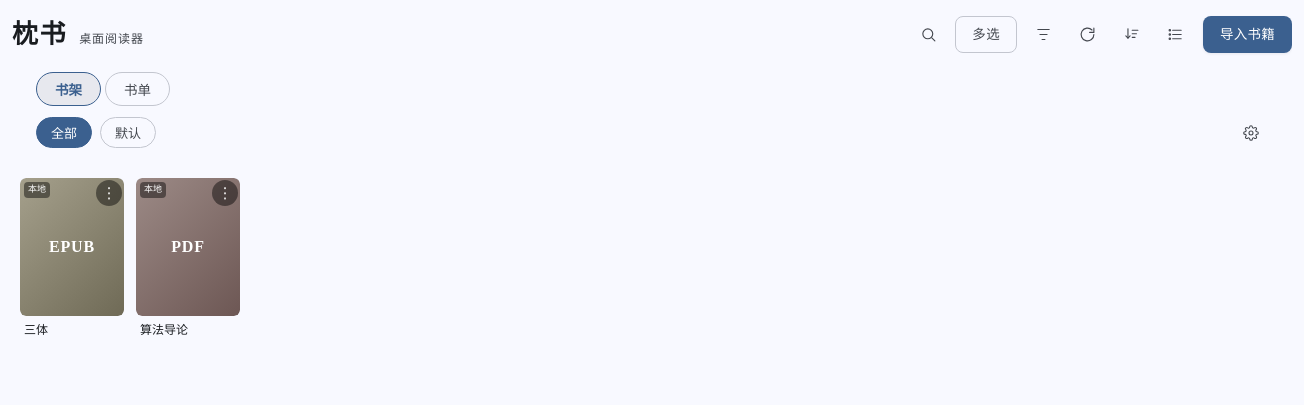
Test: LibraryPage › filters shelf books by title keyword
The width and height of the screenshot is (1304, 405).
Expected: the text "三体" is shown, x1=24 y1=321 x2=48 y2=338
Step 1. Click the button named "过滤书架" → (1044, 35), box x1=1027 y1=18 x2=1061 y2=52
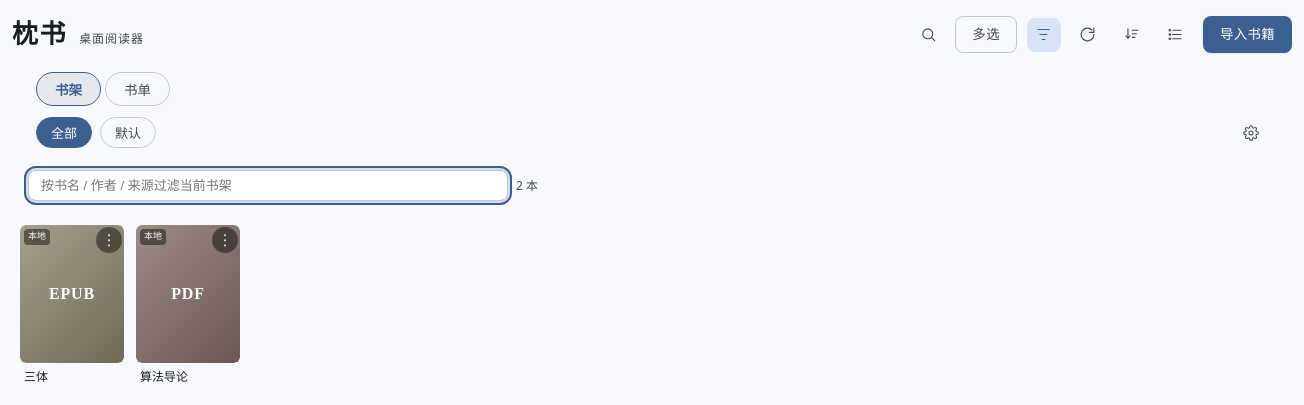
Step 2. Type "三体" into the field with placeholder "按书名 / 作者 / 来源过滤当前书架" → (268, 185), box x1=28 y1=170 x2=508 y2=201
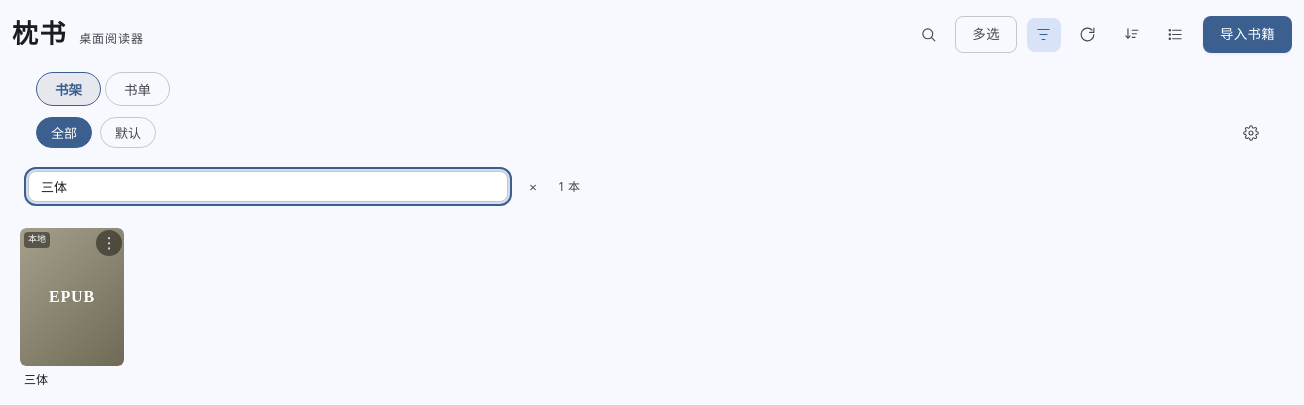
Expected: the text "三体" is shown, x1=24 y1=371 x2=48 y2=388
Expected: the button "算法导论" is gone
Expected: the text "1 本" is shown, x1=558 y1=177 x2=580 y2=196
